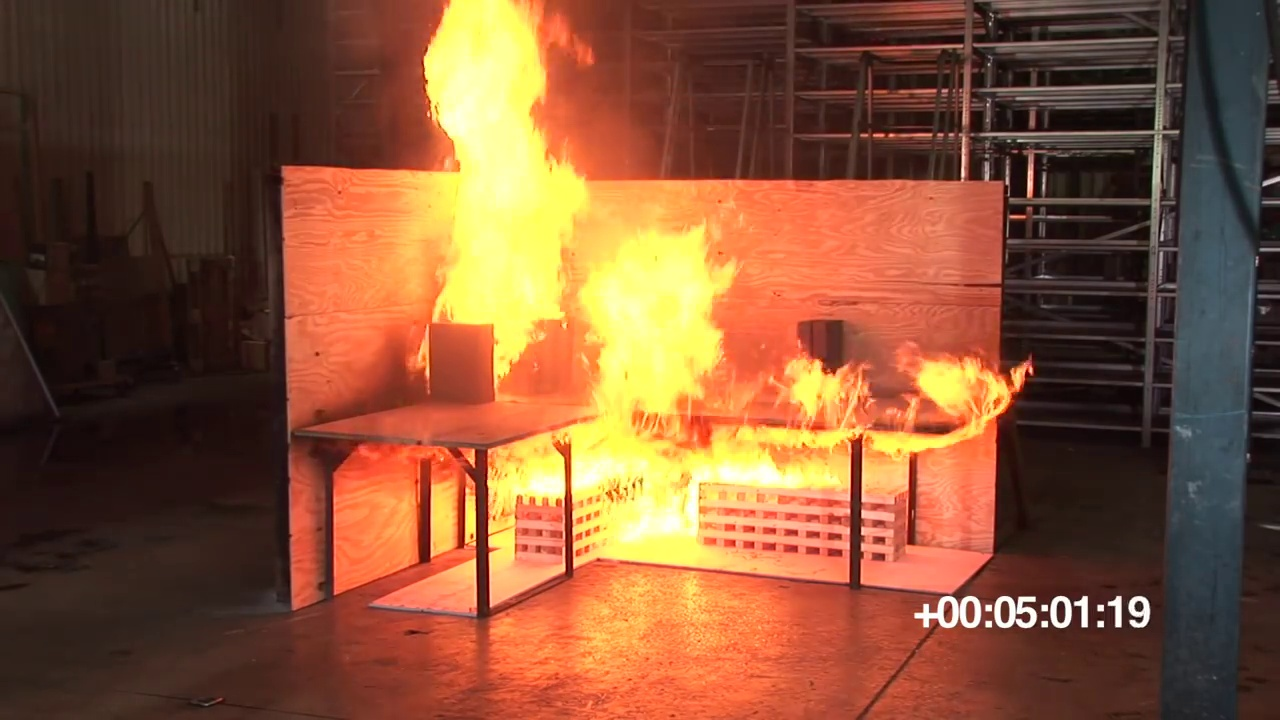fire: (427, 1, 585, 385), (575, 218, 739, 416), (488, 434, 841, 522), (882, 350, 1033, 454), (780, 355, 864, 427)
